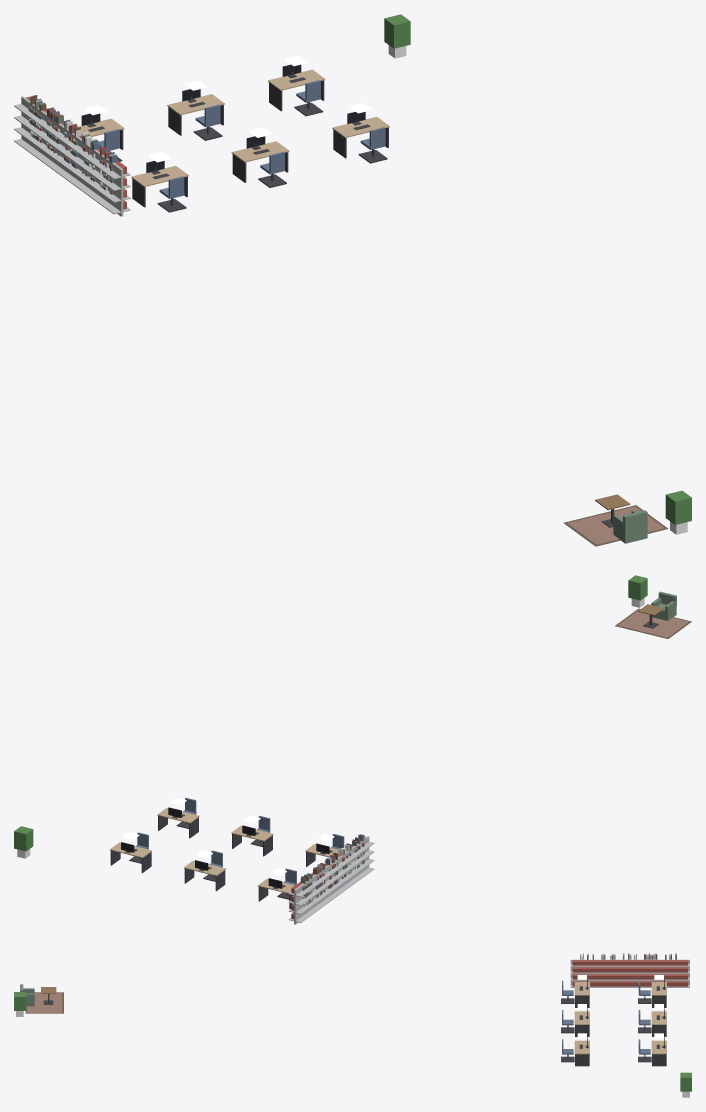
File: fine-s2.glb
3 views of the same model, one above another, from view 1: azimuth 30°, elevation 25°; view 2: azimuth 150°, elevation 25°; view 3: azimuth 270°, elevation 25° (orthographic). The views are drawn at different scales.
Parts seen in each view (by area): view 1: soft-s2, shelving.009, shelving.005, office-desk-real.010, office-desk-real.008, office-desk-real.009, office-desk-real.011, office-desk-real.007, shelving.007, shelving.008, shelving.006, plant-medium.005 (+2 smaller); view 2: soft-s2, shelving.005, office-desk-real.008, office-desk-real.007, office-desk-real.010, office-desk-real.011, shelving.009, shelving.008, plant-medium.004, plant-medium.005, shelving.006, sofa.001; view 3: soft-s2, shelving.005, shelving.008, shelving.007, shelving.009, shelving.006, office-desk-real.008, office-desk-real.011, office-desk-real.007, office-desk-real.010, office-desk-real.006, office-desk-real.009 (+2 smaller).
Boxes of the visible parts, <box> form: soft-s2: <box>28,95,668,546</box>; shelving.009: <box>85,149,130,216</box>; shelving.005: <box>14,96,50,161</box>; office-desk-real.010: <box>231,136,289,182</box>; office-desk-real.008: <box>268,64,325,111</box>; office-desk-real.009: <box>131,161,188,207</box>; office-desk-real.011: <box>332,112,389,158</box>; office-desk-real.007: <box>167,89,224,135</box>; shelving.007: <box>49,123,85,187</box>; shelving.008: <box>67,136,104,200</box>; shelving.006: <box>32,110,68,175</box>; plant-medium.005: <box>384,14,410,58</box>; soft-s2: <box>300,608,691,906</box>; shelving.005: <box>288,874,322,924</box>; office-desk-real.008: <box>110,842,152,872</box>; office-desk-real.007: <box>184,860,226,891</box>; office-desk-real.010: <box>231,825,273,856</box>; office-desk-real.011: <box>157,807,199,838</box>; shelving.009: <box>347,836,374,883</box>; shelving.008: <box>335,846,361,892</box>; plant-medium.004: <box>628,575,647,607</box>; plant-medium.005: <box>14,826,33,858</box>; shelving.006: <box>309,865,335,912</box>; sofa.001: <box>651,591,676,620</box>; soft-s2: <box>25,953,676,1013</box>; shelving.005: <box>655,959,689,987</box>; shelving.008: <box>592,959,626,987</box>; shelving.007: <box>613,959,646,987</box>; shelving.009: <box>570,959,604,987</box>; shelving.006: <box>634,959,668,987</box>; office-desk-real.008: <box>651,1037,666,1066</box>; office-desk-real.011: <box>574,1037,589,1066</box>; office-desk-real.007: <box>651,1008,666,1036</box>; office-desk-real.010: <box>574,1008,589,1036</box>; office-desk-real.006: <box>651,979,666,1007</box>; office-desk-real.009: <box>574,979,589,1007</box>.
Bounding box in the file's own units: 13.92 × 1.93 × 35.23.
